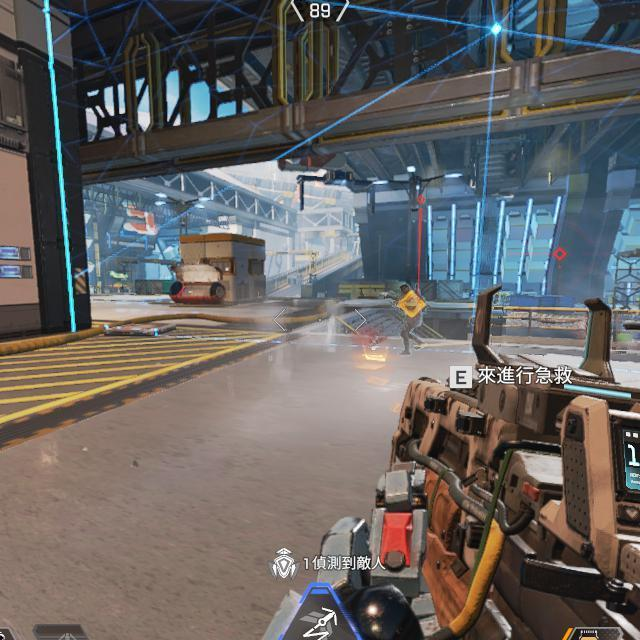avatar: (396, 280, 429, 358)
object: (395, 287, 428, 320)
